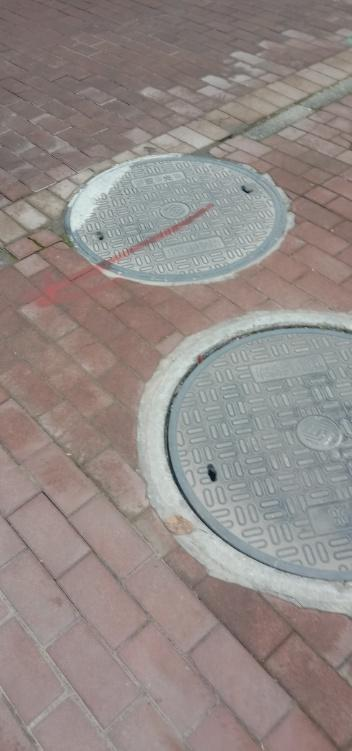wellcover: (142, 300, 352, 583), (57, 148, 304, 279)
